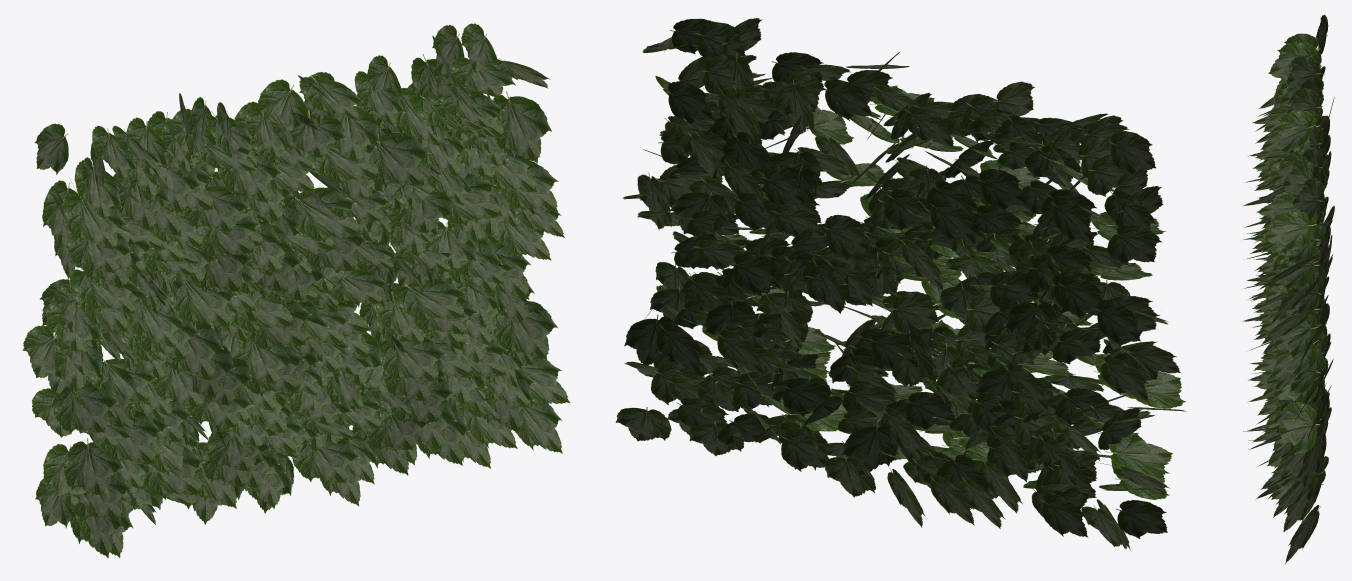
File: trepadora_grande.glb
3 renders of one model, left to right at view 1: azimuth 30°, elevation 25°; view 2: azimuth 150°, elevation 25°; view 3: azimuth 270°, elevation 25°, orthographic. The views are drawn at different scales.
Visible parts, largest first — view 1: Ivy_Square_IvyLeaf_0; view 2: Ivy_Square_IvyLeaf_0; view 3: Ivy_Square_IvyLeaf_0.
Boxes of the visible parts, x1,y1,x2,y2 form: Ivy_Square_IvyLeaf_0: [22, 23, 570, 558]; Ivy_Square_IvyLeaf_0: [615, 18, 1186, 550]; Ivy_Square_IvyLeaf_0: [1242, 15, 1334, 563].
Bounding box in the file's own units: 12.98 × 10.09 × 2.52.
Materials: 1 (1 with a texture image).
